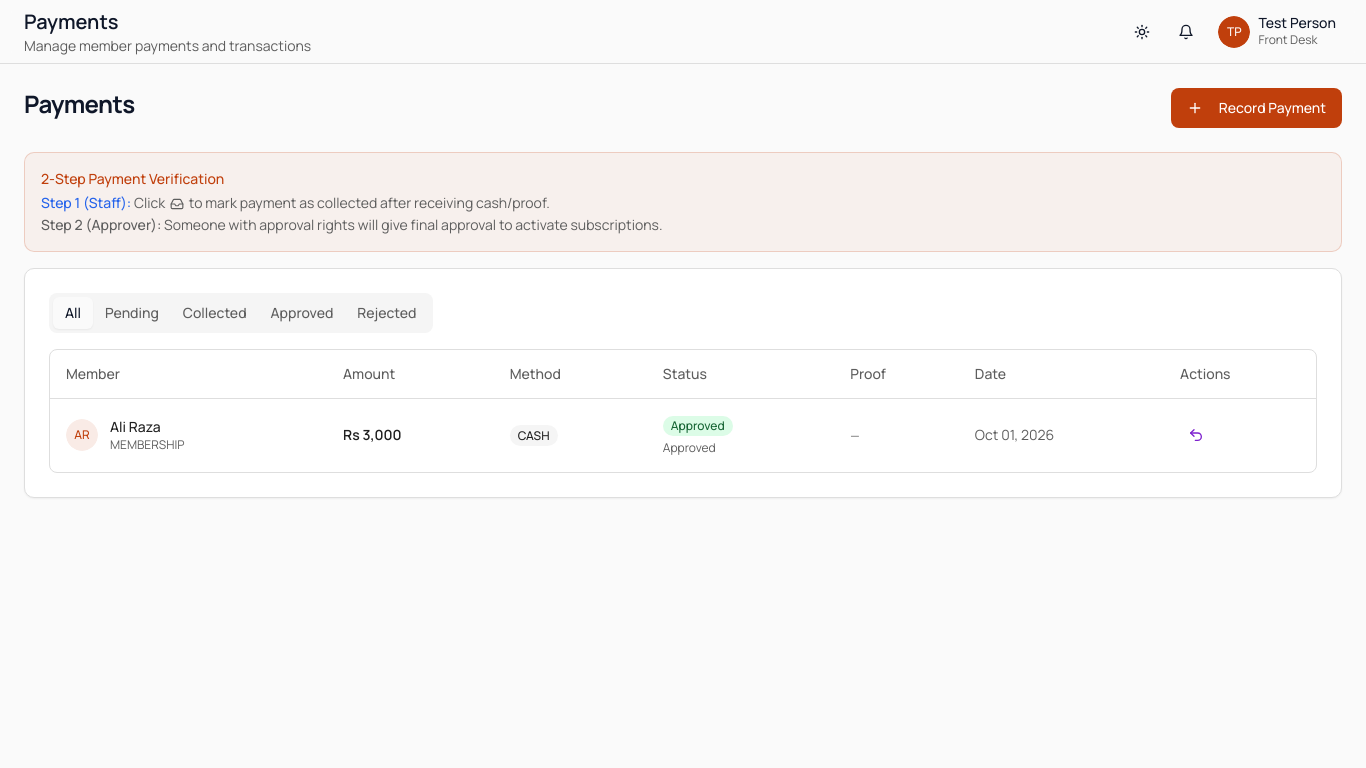
Test: Refunds (PAY-07) › server error: an over-refund shows the server’s own message in the dialog
The image size is (1366, 768).
Expected: the text "Ali Raza" is shown, [110, 417, 160, 436]
Step 1. Click the button named "Refund" → (1196,435), box [1180, 419, 1212, 451]
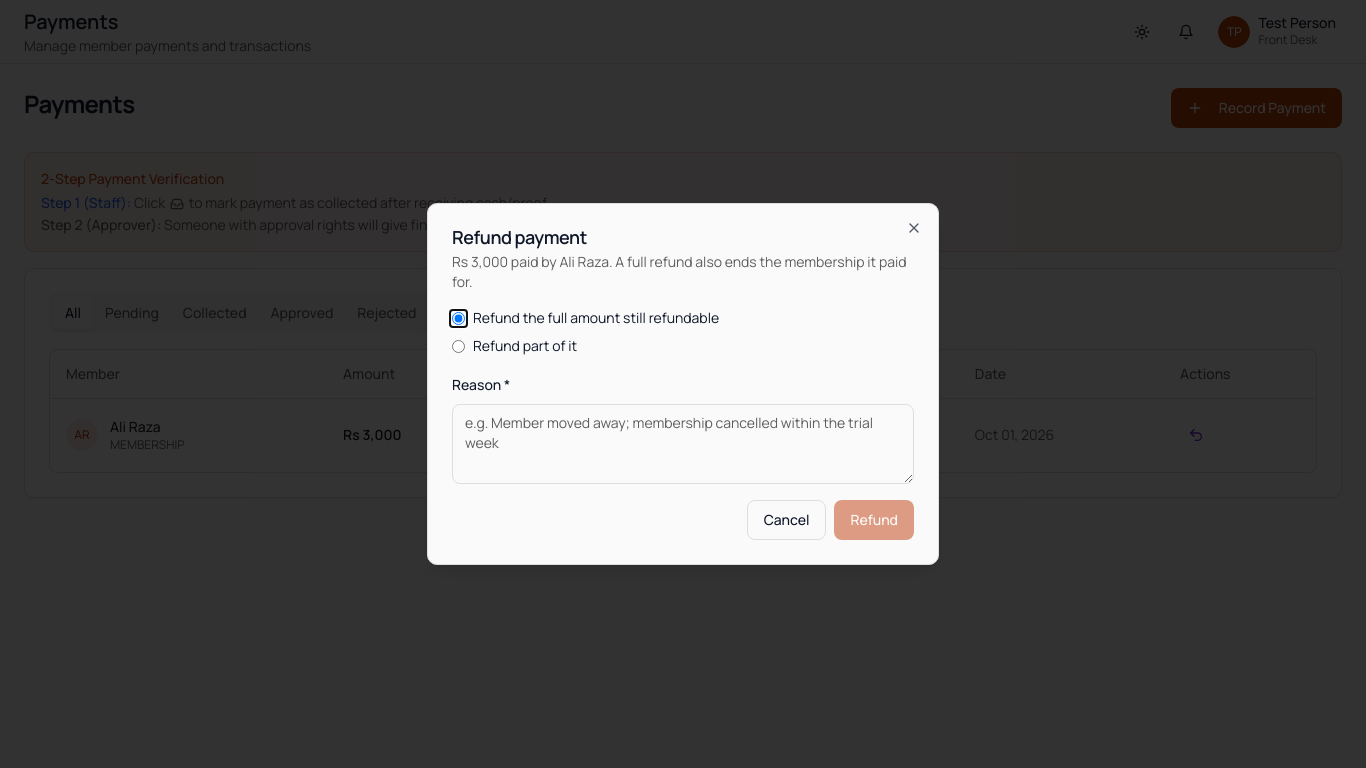
Step 2. Replace the text in the text box labelled "Reason *" with "Moved away" → (683,444), box [452, 404, 914, 484]
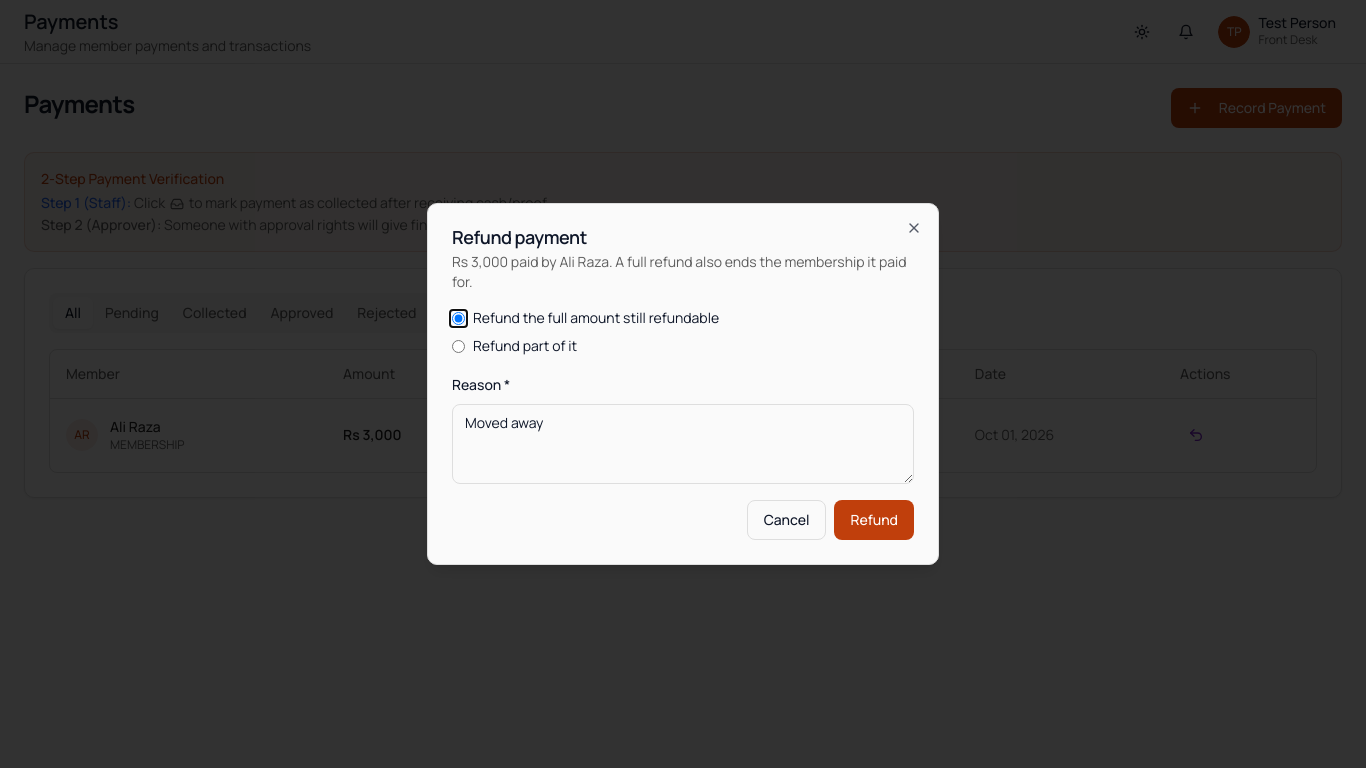
Step 3. Click the button "Refund" → (874,520), box [834, 500, 914, 540]
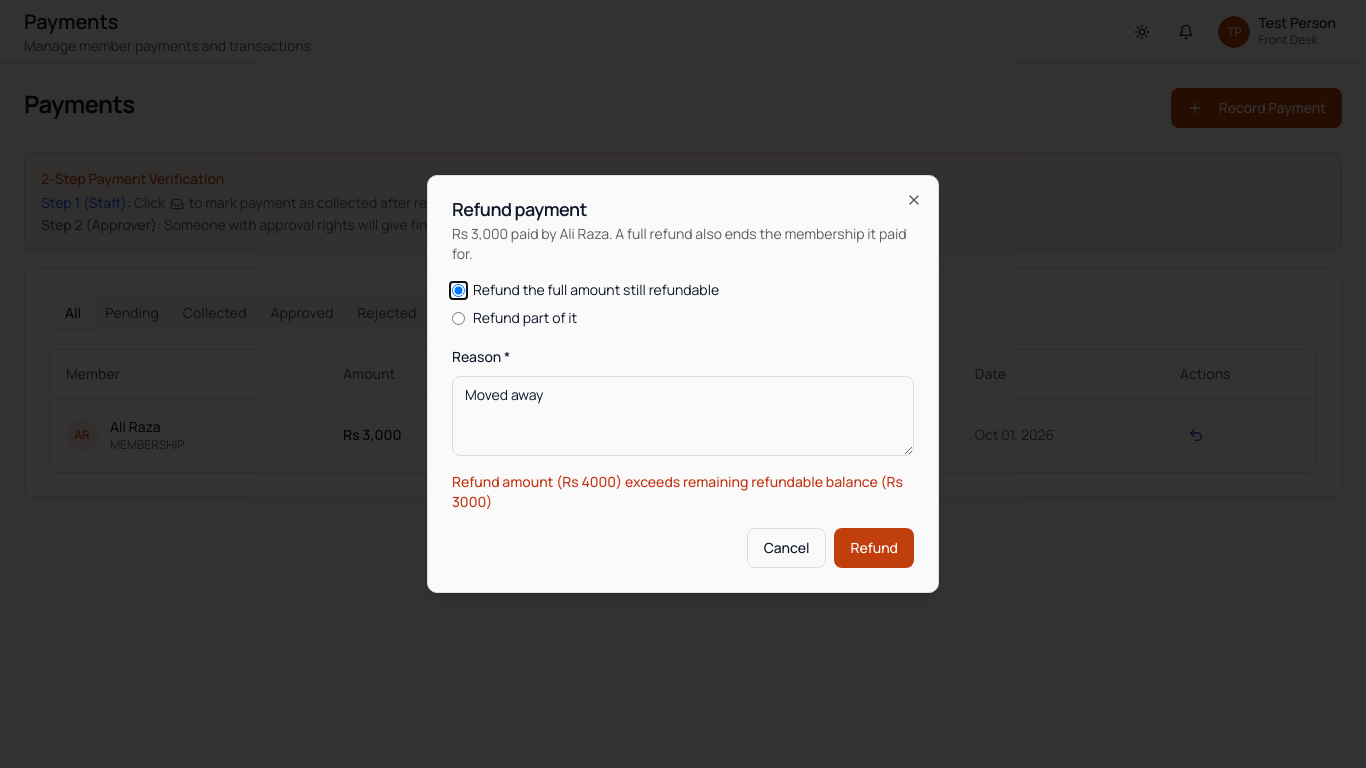
Result: the text "Refund amount (Rs 4000) exceeds remaining refundable balance (Rs 3000)" is shown at [452, 472, 914, 512]
